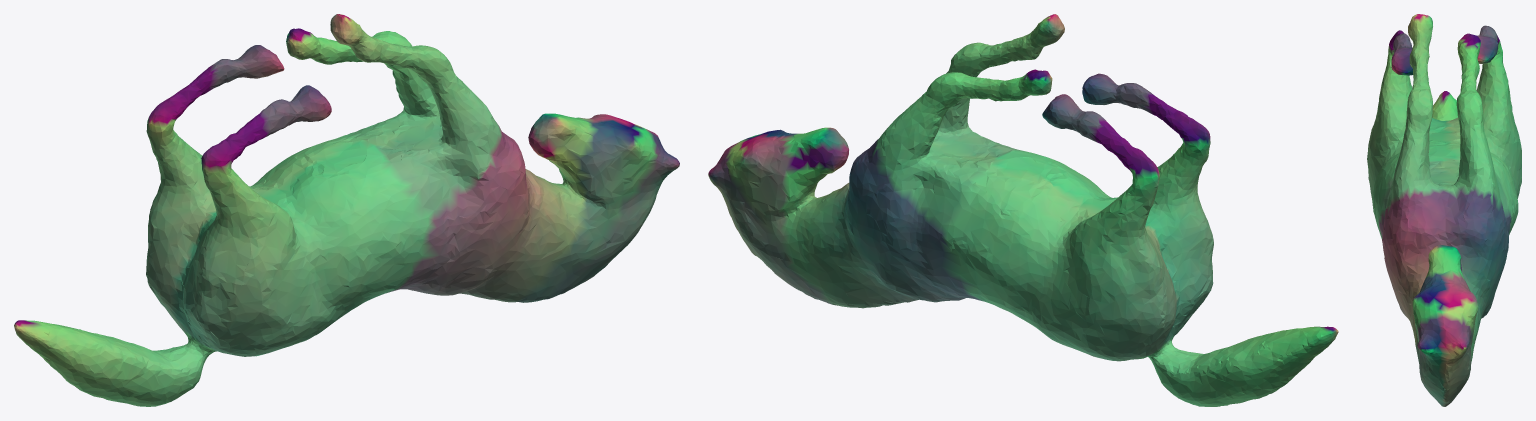
File: horse-19.off.obj
The picture shows the model from 3 angles, left to right: view 1: azimuth 30°, elevation 25°; view 2: azimuth 150°, elevation 25°; view 3: azimuth 270°, elevation 25°; orthographic projection. The views are drawn at different scales.
Bounding box in the file's own units: 1.7 × 0.8916 × 0.4125.
